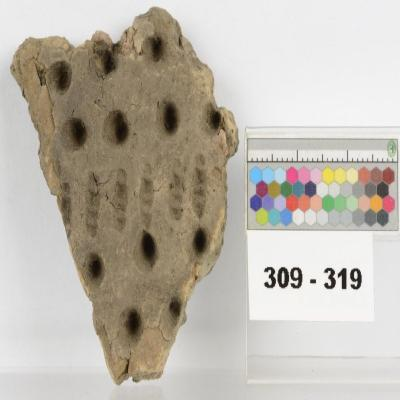archeology: (9, 8, 240, 387)
